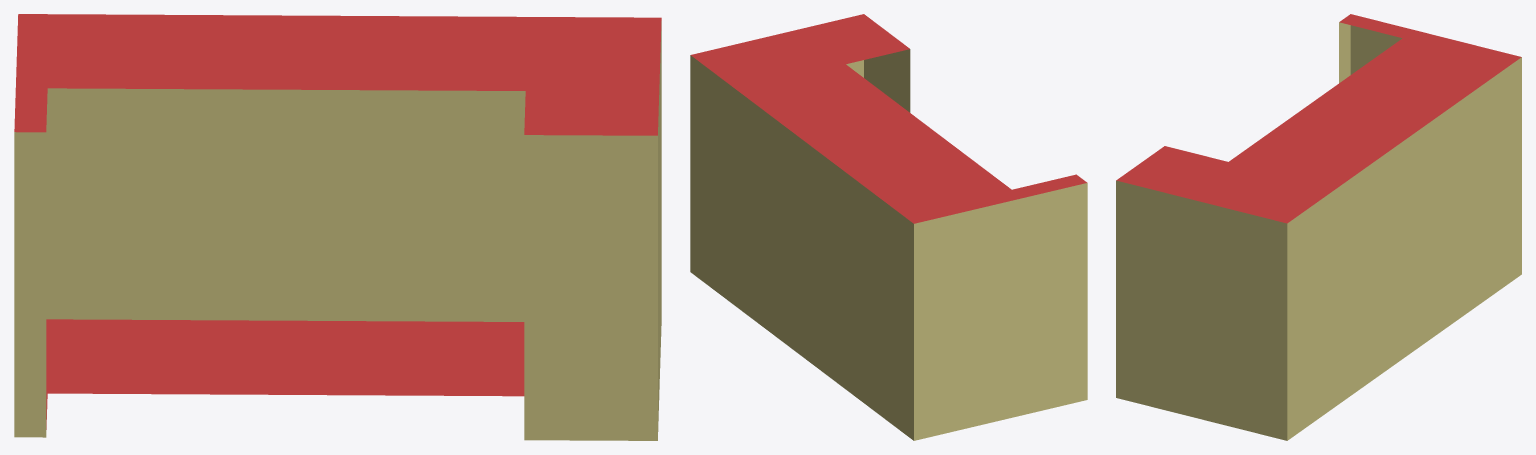
The picture shows the model from 3 angles, left to right: view 1: azimuth 30°, elevation 25°; view 2: azimuth 150°, elevation 25°; view 3: azimuth 270°, elevation 25°; orthographic projection. The views are drawn at different scales.
Visible parts, largest first — view 1: group_4, group_3, group_5; view 2: group_4, group_3; view 3: group_4, group_3.
Part boxes in pixels (box(x1,y1,x2,y2)): group_4: box(14, 21, 661, 440); group_3: box(14, 14, 661, 135); group_5: box(46, 319, 524, 429); group_4: box(690, 49, 1087, 440); group_3: box(691, 14, 1087, 223); group_4: box(1116, 22, 1521, 440); group_3: box(1116, 14, 1521, 223).
Bounding box in the file's own units: 16.36 × 13.39 × 7.92.
